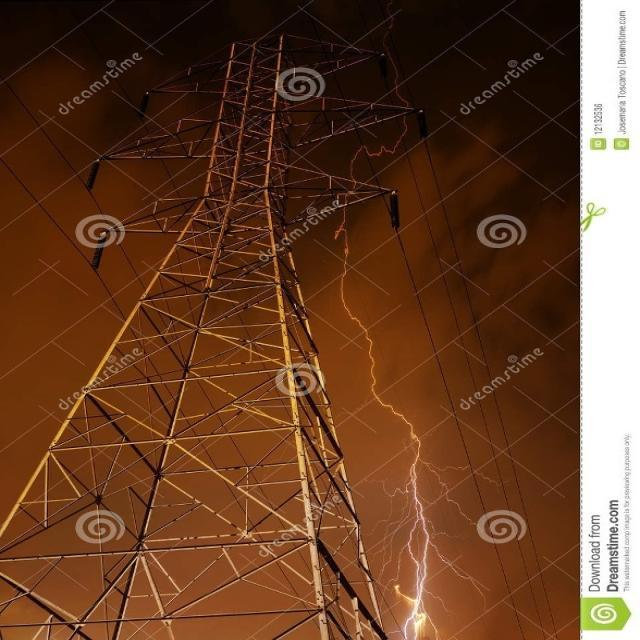non-critical vegetation: (11, 15, 412, 630)
